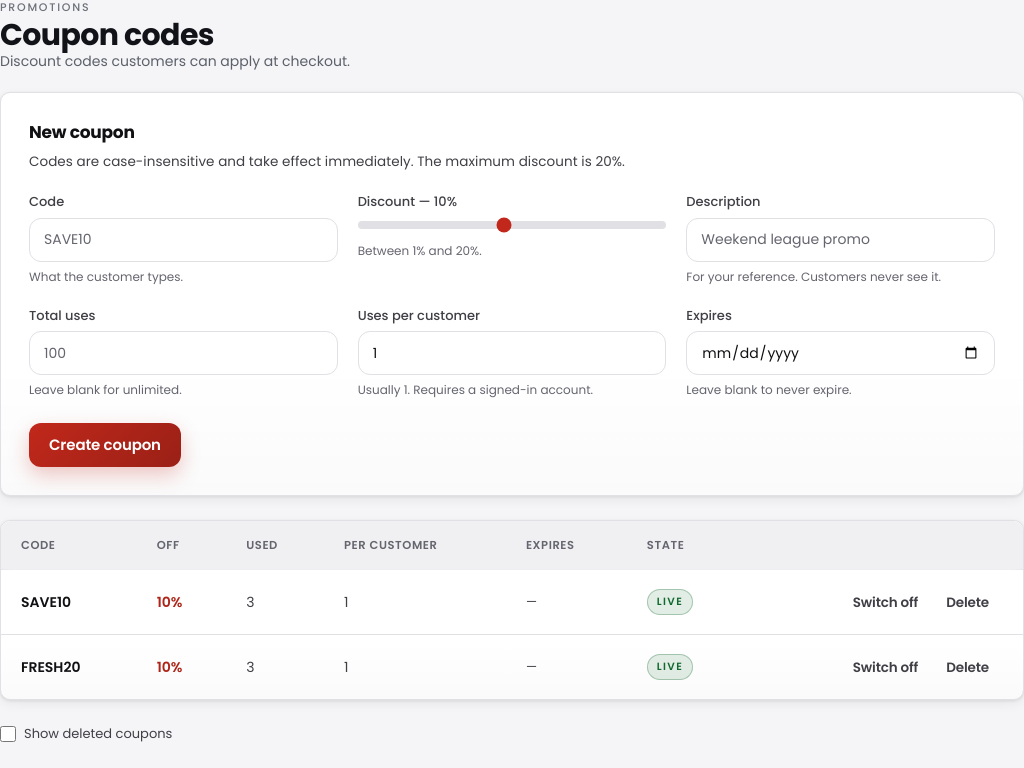
Test: deleting a coupon › asks first, in plain words; Cancel deletes nothing
Click the button with aria-label "Delete coupon SAVE10". click: (968, 602)
box: [932,584,1003,620]
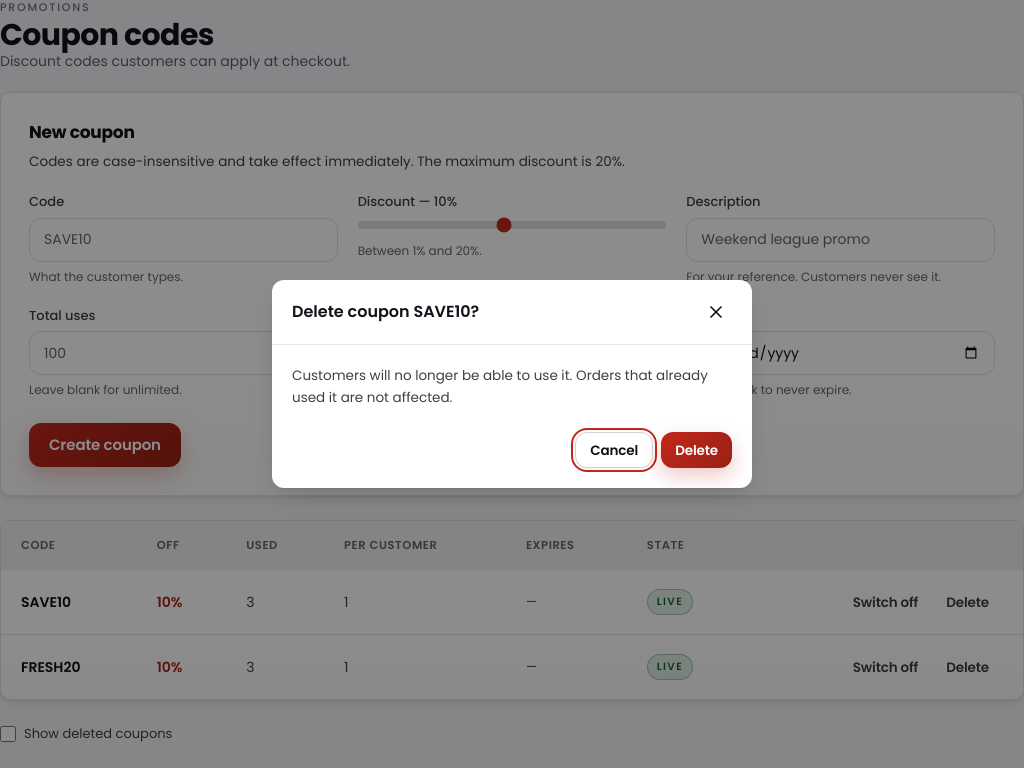
Expected: the dialog "Delete coupon SAVE10?" shows "Customers will no longer be able to use it. Orders that already used it are not affected.", [292,366,708,406]
Click the button "Cancel". click: (614, 450)
box: [575,432,653,468]
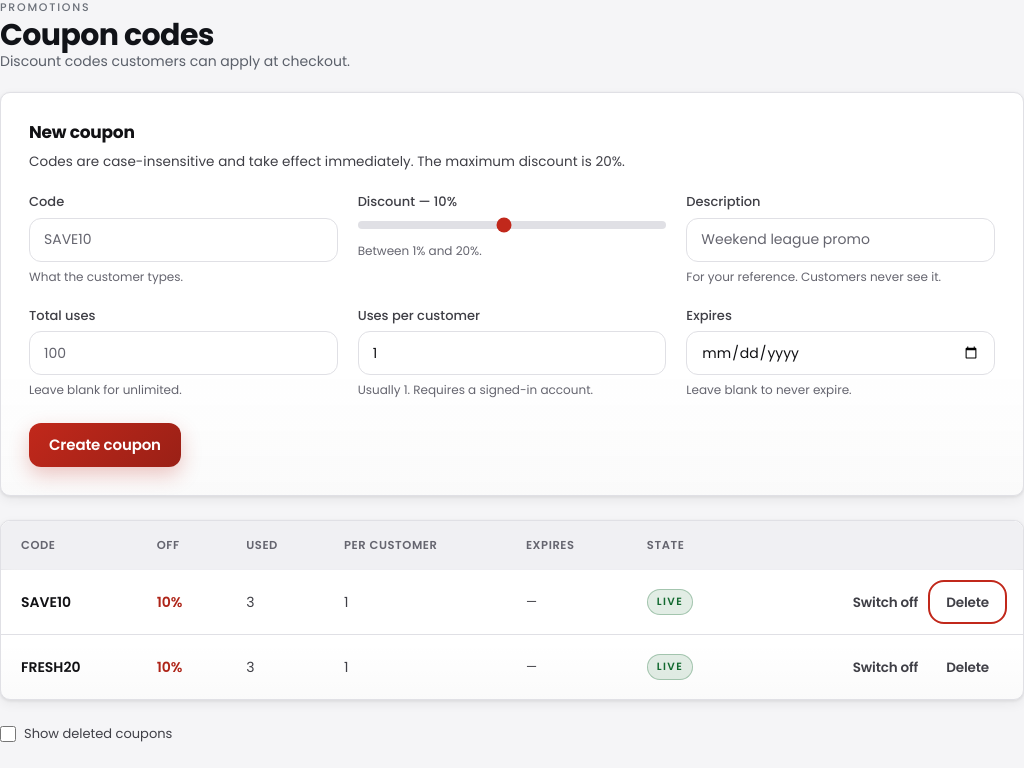
Expected: the dialog is gone
